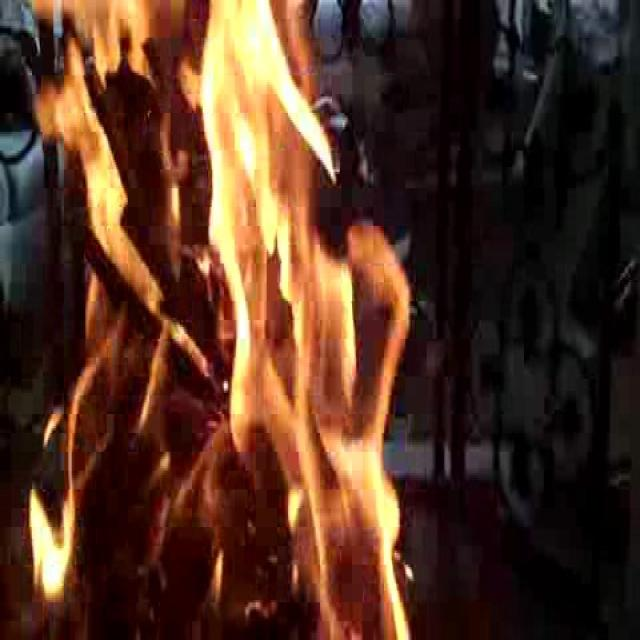smoke: (35, 0, 404, 621)
